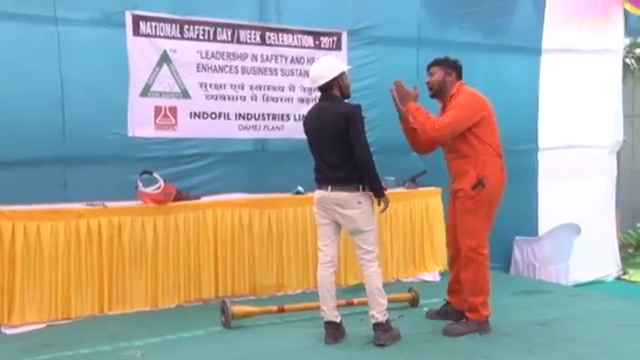helmet: (309, 53, 353, 85)
helmet_off: (422, 56, 465, 98)
helmet_on: (308, 53, 353, 102)
person: (384, 55, 501, 340), (302, 50, 400, 349)
